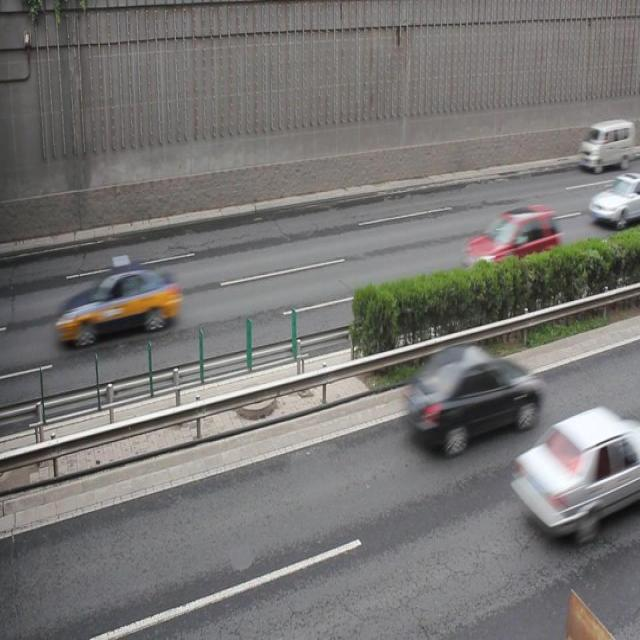car: (510, 406, 640, 534), (405, 342, 543, 450), (55, 259, 182, 345), (463, 205, 560, 288), (586, 177, 640, 222)
truck: (577, 120, 630, 166)
